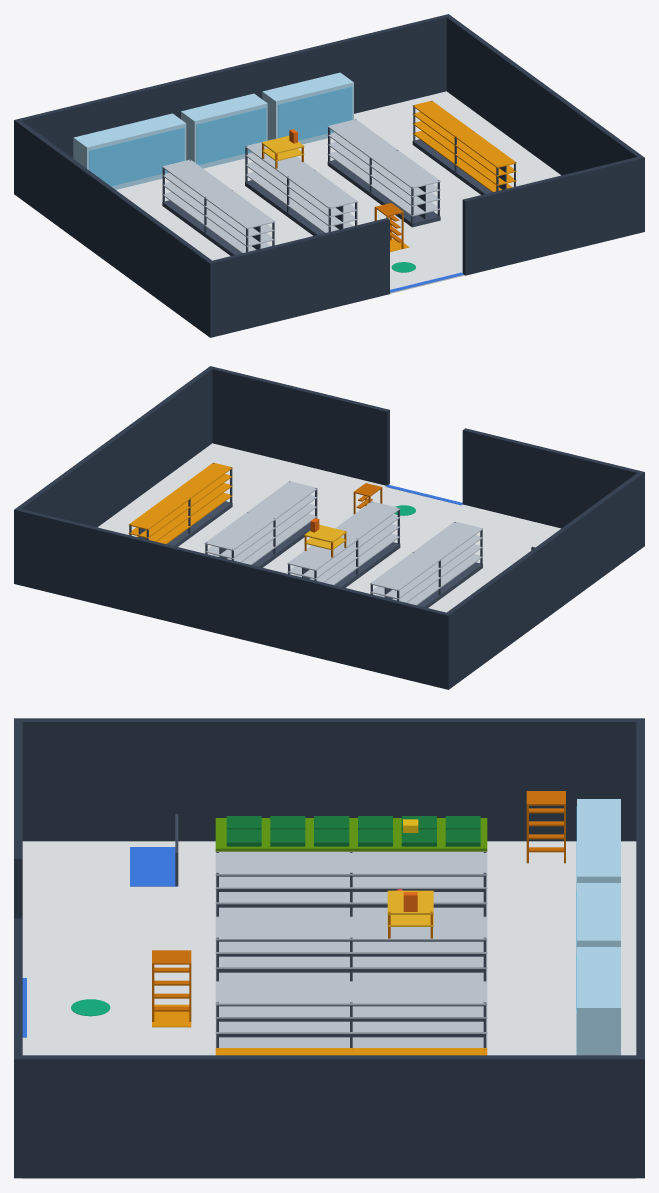
File: BabyMarket_Cenario_v1.glb
3 views of the same model, one above another, from view 1: azimuth 30°, elevation 25°; view 2: azimuth 150°, elevation 25°; view 3: azimuth 270°, elevation 25° (orthographic). The views are drawn at different scales.
Parts seen in each view (by area): view 1: Wall_North, Floor_Main, Wall_West, Wall_South_West, Wall_South_East, Wall_East, Fridge_Dairy_Cabinet, Shelf_C, Shelf_A, Shelf_B, Fridge_Drinks_Cabinet, Freezer_Display_Cabinet (+9 smaller); view 2: Wall_North, Floor_Main, Wall_West, Wall_South_East, Wall_East, Wall_South_West, Shelf_A, Shelf_C, Shelf_B, Shelf_Cleaning, Shelf_Cleaning_BasePlinth, Shelf_B_BasePlinth (+3 smaller); view 3: Wall_East, Wall_West, Floor_Main, Shelf_C, Shelf_B, Shelf_A, Freezer_Display_Cabinet, Wall_North, Fridge_Dairy_Cabinet, Produce_Stand_Base, Fridge_Drinks_Cabinet, Shelf_C_CenterSpine (+14 smaller).
Part boxes in pixels (<box>): Wall_North: <box>14,14,450,195</box>; Floor_Main: <box>116,91,560,293</box>; Wall_West: <box>16,121,211,335</box>; Wall_South_West: <box>207,218,389,337</box>; Wall_South_East: <box>462,156,644,275</box>; Wall_East: <box>446,16,641,175</box>; Fridge_Dairy_Cabinet: <box>73,113,186,189</box>; Shelf_C: <box>327,119,440,223</box>; Shelf_A: <box>162,159,275,253</box>; Shelf_B: <box>245,139,357,232</box>; Fridge_Drinks_Cabinet: <box>181,93,267,168</box>; Freezer_Display_Cabinet: <box>262,72,353,144</box>; Wall_North: <box>14,508,451,689</box>; Floor_Main: <box>98,443,560,612</box>; Wall_West: <box>447,473,642,687</box>; Wall_South_East: <box>208,366,389,485</box>; Wall_East: <box>17,368,212,527</box>; Wall_South_West: <box>462,428,644,547</box>; Shelf_A: <box>370,521,482,605</box>; Shelf_C: <box>204,481,317,564</box>; Shelf_B: <box>287,501,400,584</box>; Shelf_Cleaning: <box>128,462,232,544</box>; Shelf_Cleaning_BasePlinth: <box>167,501,232,546</box>; Shelf_B_BasePlinth: <box>334,542,400,587</box>; Wall_East: <box>22,1055,636,1178</box>; Wall_West: <box>22,718,636,841</box>; Floor_Main: <box>22,841,636,1178</box>; Shelf_C: <box>215,981,487,1047</box>; Shelf_B: <box>215,916,487,981</box>; Shelf_A: <box>215,851,487,916</box>; Freezer_Display_Cabinet: <box>577,947,620,1055</box>; Wall_North: <box>636,718,644,1178</box>; Fridge_Dairy_Cabinet: <box>577,799,620,882</box>; Produce_Stand_Base: <box>215,818,487,851</box>; Fridge_Drinks_Cabinet: <box>577,883,620,946</box>; Shelf_C_CenterSpine: <box>219,1005,483,1037</box>.
Size of what is drawn, in the model's own units: 18.4 by 3.1 by 14.4.
